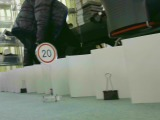speed_20: (33, 42, 57, 65)
